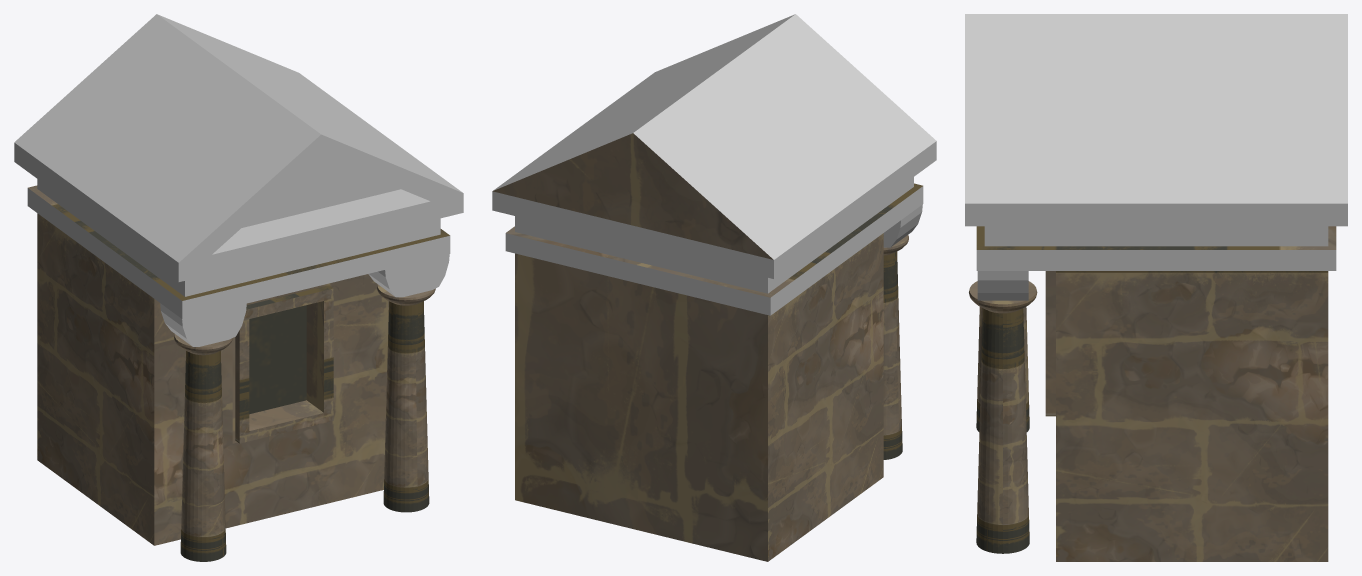
3 renders of one model, left to right at view 1: azimuth 30°, elevation 25°; view 2: azimuth 150°, elevation 25°; view 3: azimuth 270°, elevation 25°, orthographic. The views are drawn at different scales.
Visible parts, largest first — view 1: Cube.673; view 2: Cube.673; view 3: Cube.673.
Part boxes in pixels (<box>): Cube.673: <box>14,14,463,561</box>; Cube.673: <box>492,14,936,561</box>; Cube.673: <box>965,14,1347,561</box>.
Size of the model in its own units: 603 by 827 by 603.
